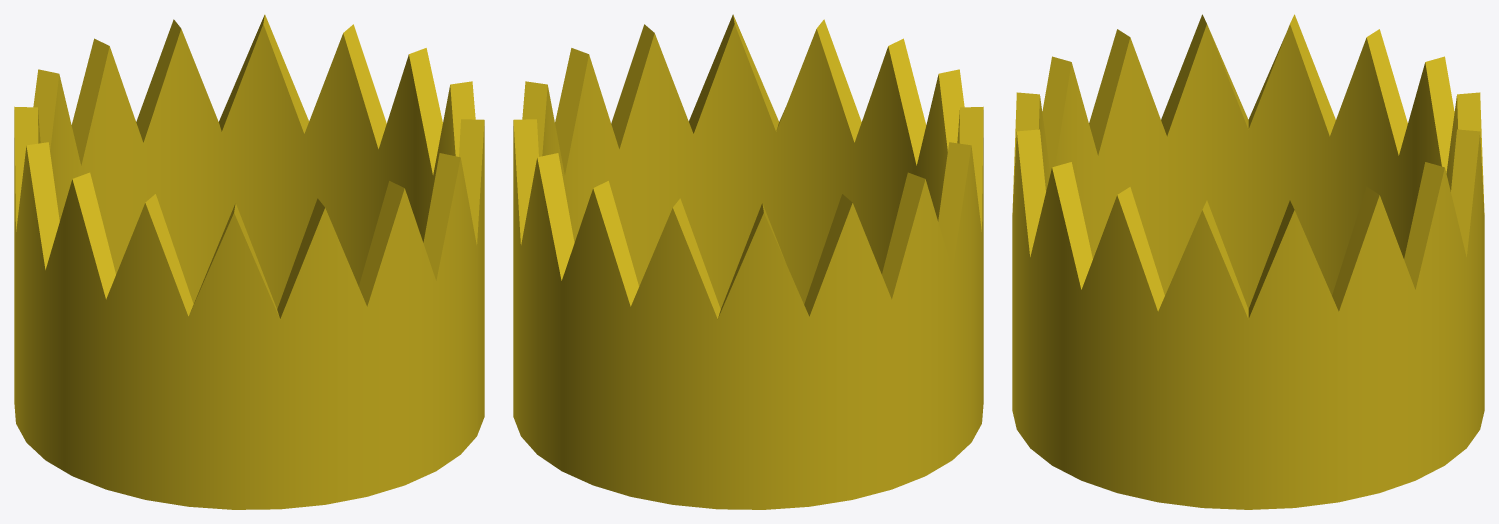
File: crown.fbx
The picture shows the model from 3 angles, left to right: view 1: azimuth 30°, elevation 25°; view 2: azimuth 150°, elevation 25°; view 3: azimuth 270°, elevation 25°; orthographic projection.
Visible parts, largest first — view 1: Circle; view 2: Circle; view 3: Circle.
Boxes of the visible parts, x1,y1,x2,y2 form: Circle: [14, 14, 484, 509]; Circle: [513, 14, 983, 509]; Circle: [1012, 14, 1484, 509].
Size of the model in its own units: 200 by 139 by 200.
